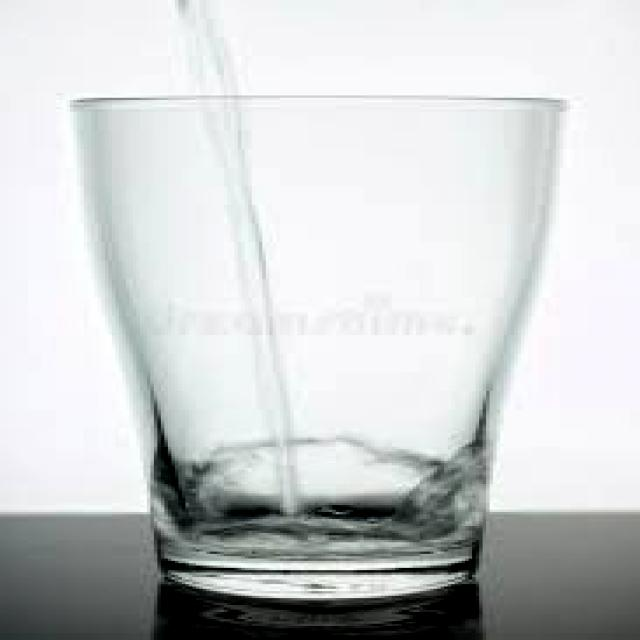Glass: (57, 88, 578, 611)
